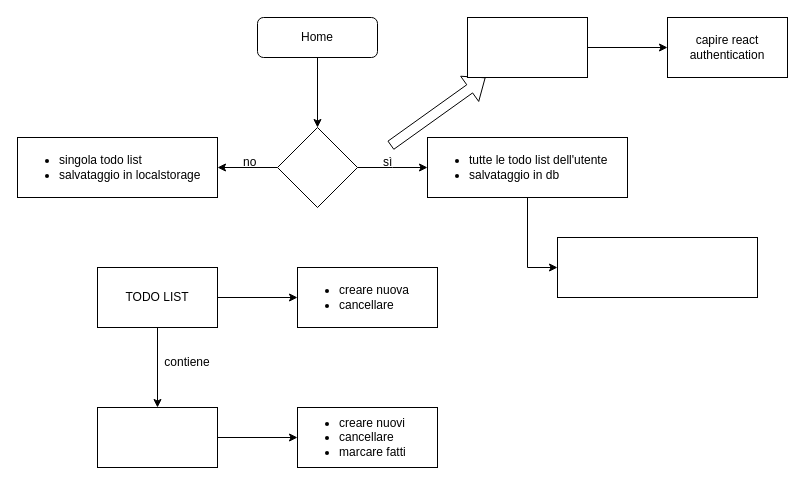
This 805x488 diagram has some shape labels left out. The shapes that lost their labels are listed below. From the top down, each one's box as (x1, y1, x2, y2) in pixels, then its label:
(466, 16, 588, 78): prevedere procedura di login
(276, 126, 358, 208): loggato?
(556, 236, 758, 298): posso navigare tra le liste: tipo navbar dinamica?
(96, 406, 218, 468): items
